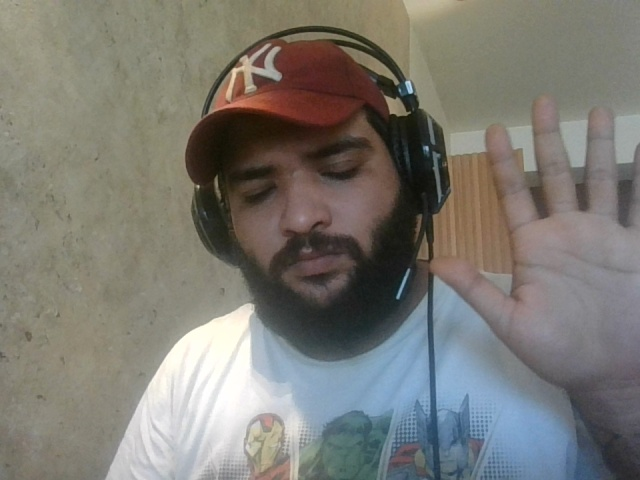hello: (425, 114, 638, 388)
